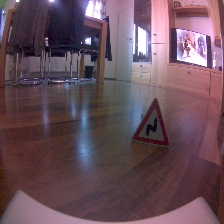vorsicht: (131, 97, 170, 149)
